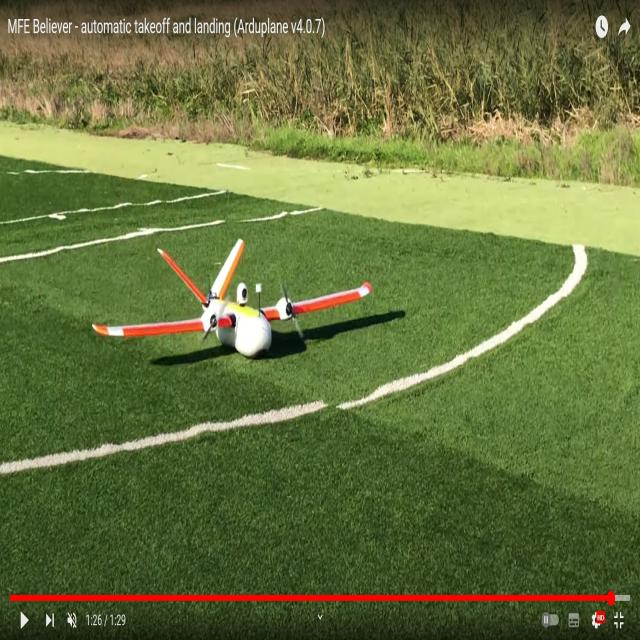iha: (90, 272, 370, 331)
